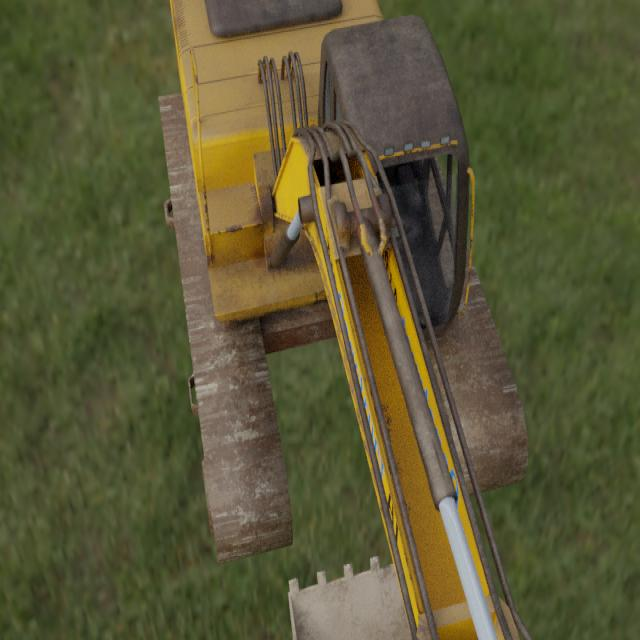excavator: (157, 0, 532, 640)
